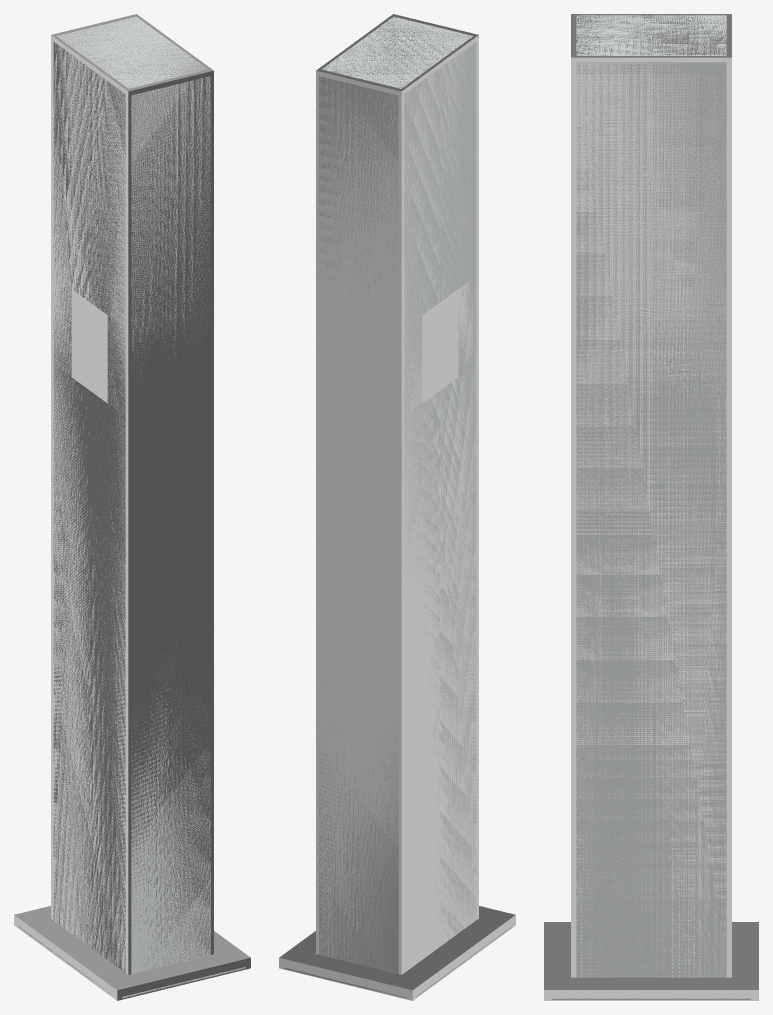
The picture shows the model from 3 angles, left to right: view 1: azimuth 30°, elevation 25°; view 2: azimuth 150°, elevation 25°; view 3: azimuth 270°, elevation 25°; orthographic projection. The views are drawn at different scales.
Visible parts, largest first — view 1: SM_Panel_Metal_01a_ConvexHulls, SM_Panel_Metal_01a; view 2: SM_Panel_Metal_01a_ConvexHulls, SM_Panel_Metal_01a; view 3: SM_Panel_Metal_01a, SM_Panel_Metal_01a_ConvexHulls.
Boxes of the visible parts, x1,y1,x2,y2 form: SM_Panel_Metal_01a_ConvexHulls: (14, 14, 250, 1000); SM_Panel_Metal_01a: (19, 16, 245, 998); SM_Panel_Metal_01a_ConvexHulls: (279, 14, 515, 1000); SM_Panel_Metal_01a: (284, 16, 511, 997); SM_Panel_Metal_01a: (552, 15, 750, 999); SM_Panel_Metal_01a_ConvexHulls: (544, 14, 758, 1000).
Size of the model in its own units: 22.44 by 30 by 143.
Materials: 3 (1 with a texture image).
